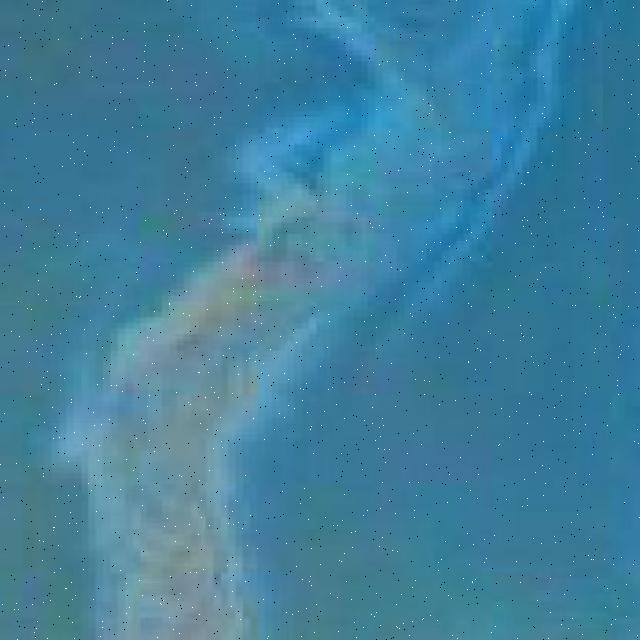oil: (217, 2, 585, 296), (70, 222, 328, 640)
